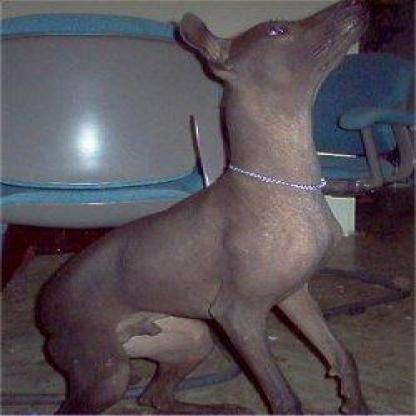Mexican_hairless: (30, 0, 379, 412)
